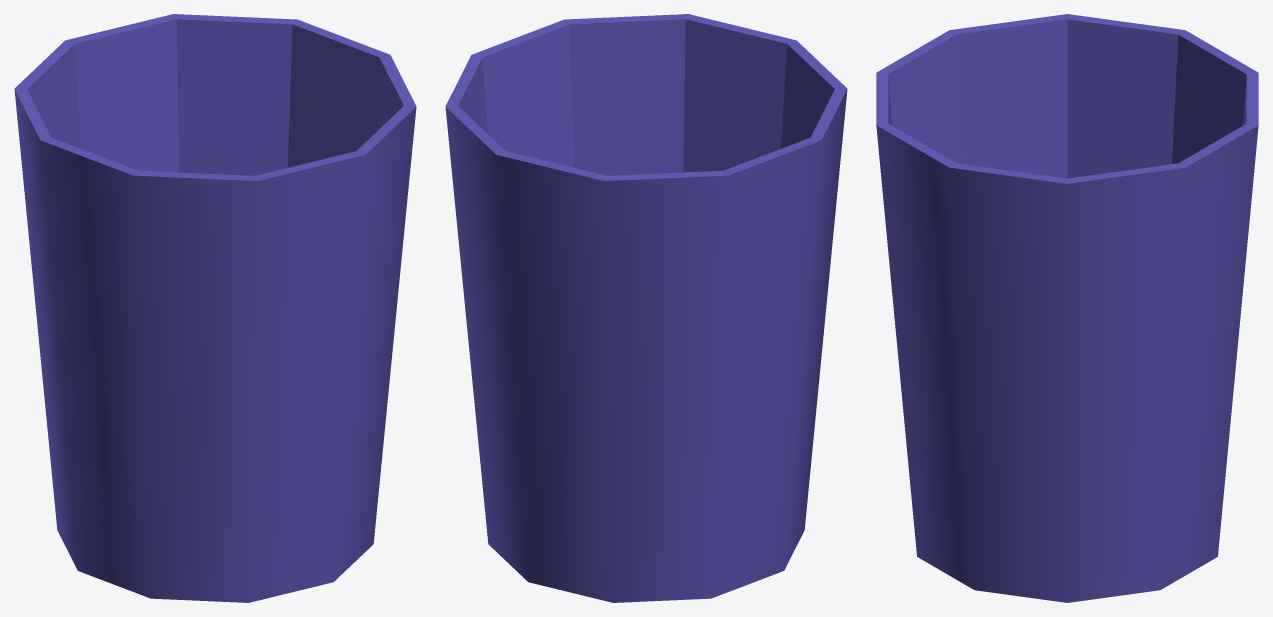
The model's file is MD_Garbige bin.FBX.
3 views of the same model, side by side, from view 1: azimuth 30°, elevation 25°; view 2: azimuth 150°, elevation 25°; view 3: azimuth 270°, elevation 25° (orthographic).
Parts seen in each view (by area): view 1: MD_Garbige Can; view 2: MD_Garbige Can; view 3: MD_Garbige Can.
Boxes of the visible parts, x1,y1,x2,y2 form: MD_Garbige Can: [14, 14, 416, 602]; MD_Garbige Can: [445, 14, 847, 602]; MD_Garbige Can: [876, 14, 1258, 602].
Bounding box in the file's own units: 50 × 60 × 47.55.
